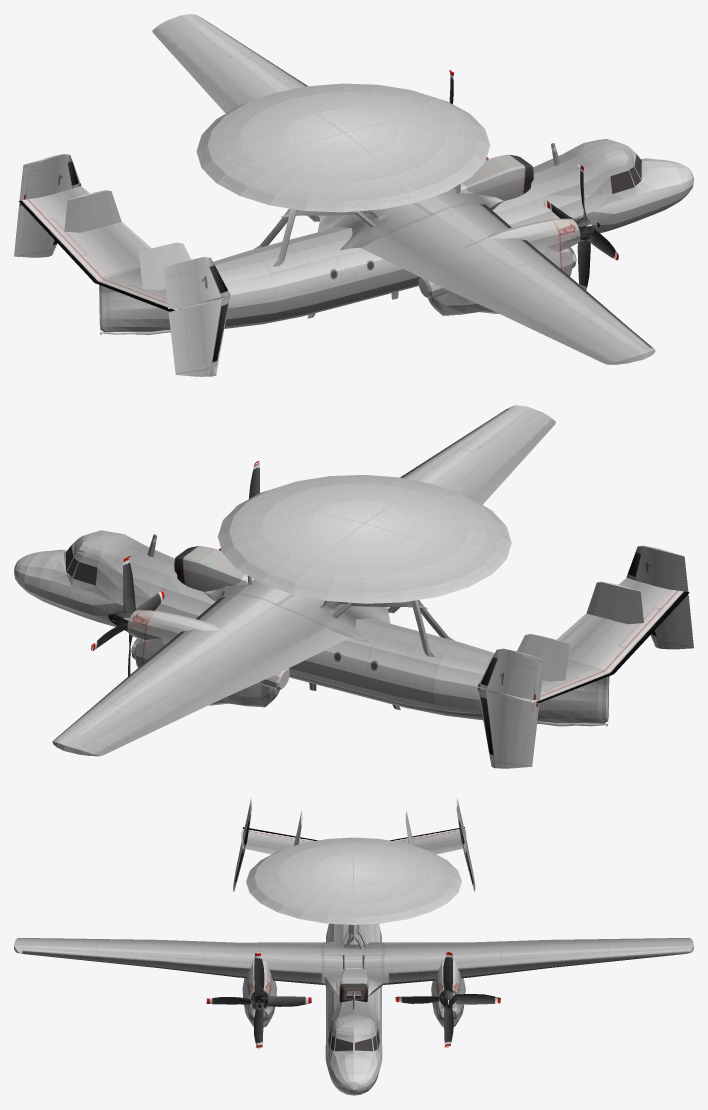
The picture shows the model from 3 angles, top to bottom: view 1: azimuth 30°, elevation 25°; view 2: azimuth 150°, elevation 25°; view 3: azimuth 270°, elevation 25°; orthographic projection. The views are drawn at different scales.
Visible parts, largest first — view 1: e2c.3ds_radar_Geometry_0, e2c.3ds_wings_Geometry_0, e2c.3ds_Fuselage_Geometry_0, e2c.3ds_tail2_der_Geometry_0, e2c.3ds_tailplane_Geometry_0, e2c.3ds_motor_der_Geometry_0, e2c.3ds_tail2_izq_Geometry_1, e2c.3ds_wings_Geometry_1, e2c.3ds_tailplane_Geometry_1, e2c.3ds_tail1_izq_Geometry_1, e2c.3ds_helice_der_Geometry_2, e2c.3ds_tail1_der_Geometry_0 (+4 smaller); view 2: e2c.3ds_radar_Geometry_0, e2c.3ds_wings_Geometry_0, e2c.3ds_Fuselage_Geometry_0, e2c.3ds_tail2_izq_Geometry_0, e2c.3ds_tailplane_Geometry_0, e2c.3ds_motor_izq_Geometry_0, e2c.3ds_tail2_der_Geometry_1, e2c.3ds_wings_Geometry_1, e2c.3ds_tailplane_Geometry_1, e2c.3ds_tail1_der_Geometry_1, e2c.3ds_helice_izq_Geometry_2, e2c.3ds_tail1_izq_Geometry_0 (+3 smaller); view 3: e2c.3ds_wings_Geometry_0, e2c.3ds_radar_Geometry_0, e2c.3ds_Fuselage_Geometry_0, e2c.3ds_helice_izq_Geometry_2, e2c.3ds_helice_der_Geometry_2, e2c.3ds_wings_Geometry_1, e2c.3ds_tailplane_Geometry_0, e2c.3ds_motor_izq_Geometry_0, e2c.3ds_motor_der_Geometry_0, e2c.3ds_ventanas_Geometry_0, e2c.3ds_tobera_Geometry_1, e2c.3ds_tailplane_Geometry_1.
Part boxes in pixels (box(x1,y1,x2,y2)): e2c.3ds_radar_Geometry_0: box(196, 83, 490, 212); e2c.3ds_wings_Geometry_0: box(152, 14, 654, 364); e2c.3ds_Fuselage_Geometry_0: box(99, 138, 693, 332); e2c.3ds_tail2_der_Geometry_0: box(163, 257, 230, 376); e2c.3ds_tailplane_Geometry_0: box(19, 186, 230, 311); e2c.3ds_motor_der_Geometry_0: box(428, 218, 580, 315); e2c.3ds_tail2_izq_Geometry_1: box(14, 154, 81, 257); e2c.3ds_wings_Geometry_1: box(153, 29, 613, 363); e2c.3ds_tailplane_Geometry_1: box(27, 206, 167, 308); e2c.3ds_tail1_izq_Geometry_1: box(64, 191, 121, 232); e2c.3ds_helice_der_Geometry_2: box(546, 165, 618, 290); e2c.3ds_tail1_der_Geometry_0: box(139, 243, 190, 290); e2c.3ds_radar_Geometry_0: box(218, 475, 511, 603); e2c.3ds_wings_Geometry_0: box(53, 405, 555, 756); e2c.3ds_Fuselage_Geometry_0: box(14, 530, 609, 723); e2c.3ds_tail2_izq_Geometry_0: box(477, 649, 544, 768); e2c.3ds_tailplane_Geometry_0: box(477, 577, 689, 702); e2c.3ds_motor_izq_Geometry_0: box(127, 610, 279, 707); e2c.3ds_tail2_der_Geometry_1: box(626, 546, 693, 649); e2c.3ds_wings_Geometry_1: box(95, 420, 554, 755); e2c.3ds_tailplane_Geometry_1: box(540, 597, 680, 699); e2c.3ds_tail1_der_Geometry_1: box(586, 582, 643, 624); e2c.3ds_helice_izq_Geometry_2: box(92, 558, 164, 676); e2c.3ds_tail1_izq_Geometry_0: box(517, 634, 569, 681); e2c.3ds_wings_Geometry_0: box(14, 938, 693, 995); e2c.3ds_radar_Geometry_0: box(246, 837, 461, 924); e2c.3ds_Fuselage_Geometry_0: box(325, 923, 382, 1095); e2c.3ds_helice_izq_Geometry_2: box(395, 952, 500, 1046); e2c.3ds_helice_der_Geometry_2: box(206, 953, 311, 1048); e2c.3ds_wings_Geometry_1: box(18, 938, 689, 995); e2c.3ds_tailplane_Geometry_0: box(242, 827, 466, 854); e2c.3ds_motor_izq_Geometry_0: box(431, 951, 465, 1027); e2c.3ds_motor_der_Geometry_0: box(242, 951, 276, 1027); e2c.3ds_ventanas_Geometry_0: box(328, 1029, 379, 1051); e2c.3ds_tobera_Geometry_1: box(340, 968, 367, 1002); e2c.3ds_tailplane_Geometry_1: box(255, 829, 452, 842).
Size of the model in its own units: 17.39 by 4.98 by 23.32.
Materials: 2 (1 with a texture image).
